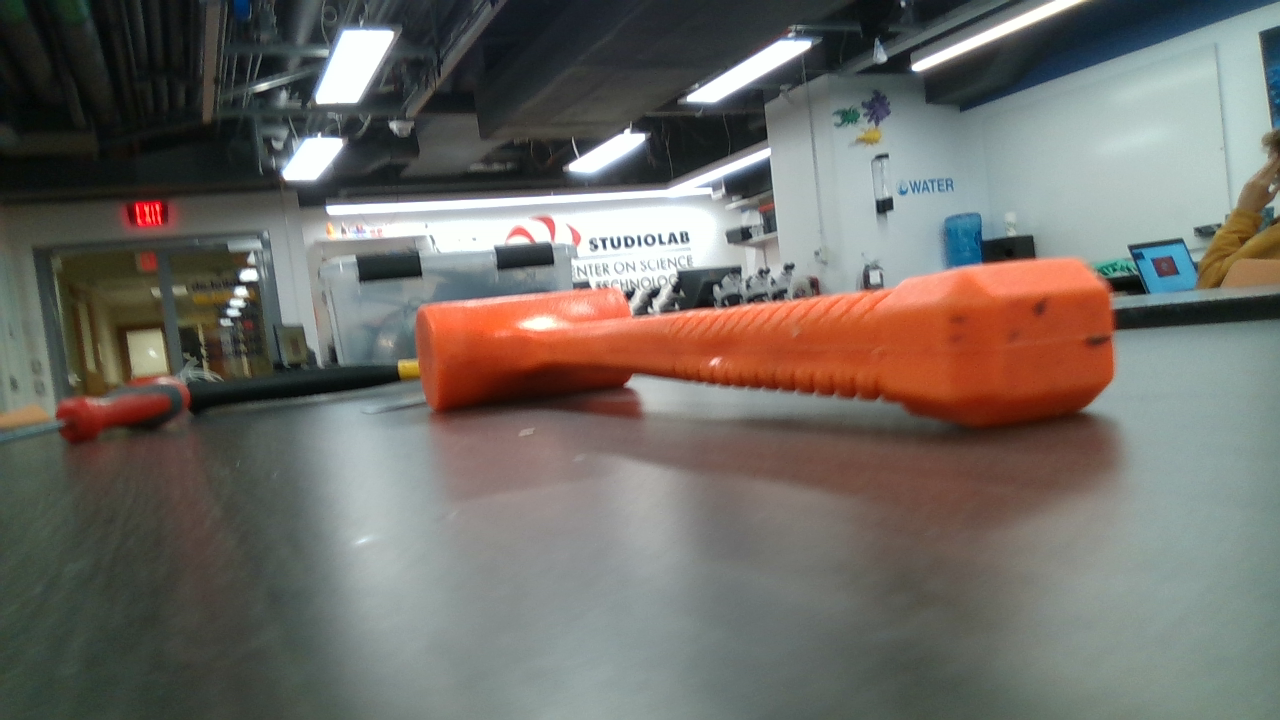Orange Hammer: (427, 258, 1113, 428)
